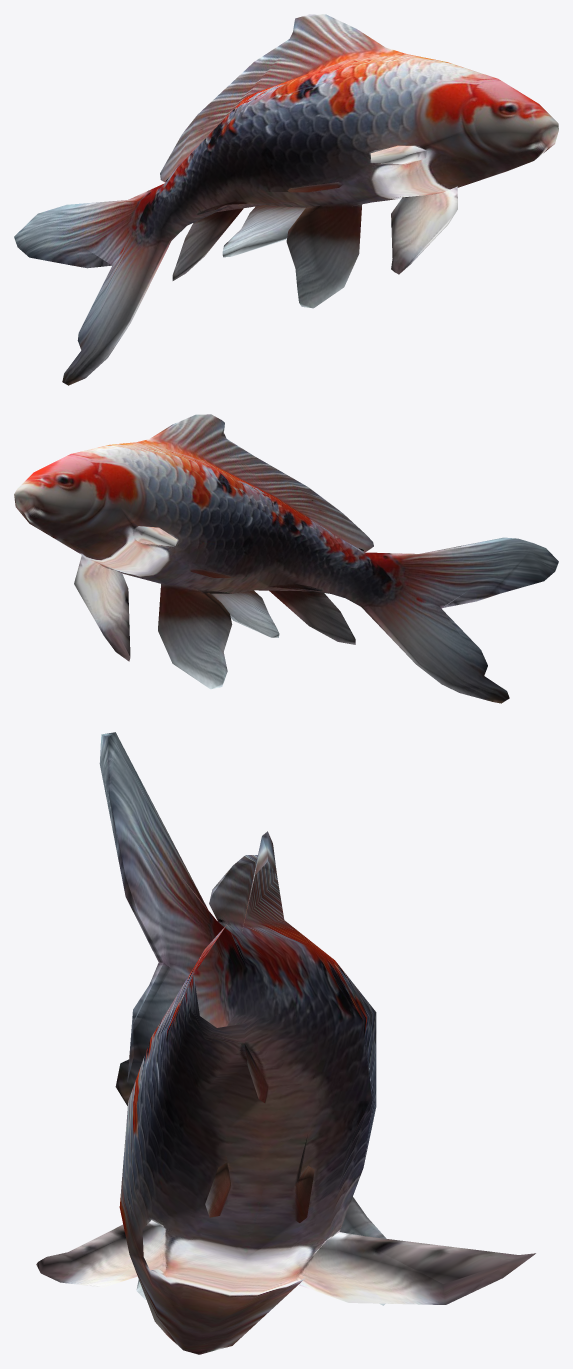
The model's file is koi.glb.
The picture shows the model from 3 angles, top to bottom: view 1: azimuth 30°, elevation 25°; view 2: azimuth 150°, elevation 25°; view 3: azimuth 270°, elevation 25°; orthographic projection. The views are drawn at different scales.
Visible parts, largest first — view 1: mesh_0; view 2: mesh_0; view 3: mesh_0.
Boxes of the visible parts, box(x1,y1,x2,y2) form: mesh_0: box(14, 14, 558, 385); mesh_0: box(14, 414, 558, 703); mesh_0: box(36, 732, 535, 1354).
Bounding box in the file's own units: 6.25 × 2.89 × 2.6.
Materials: 1 (1 with a texture image).
